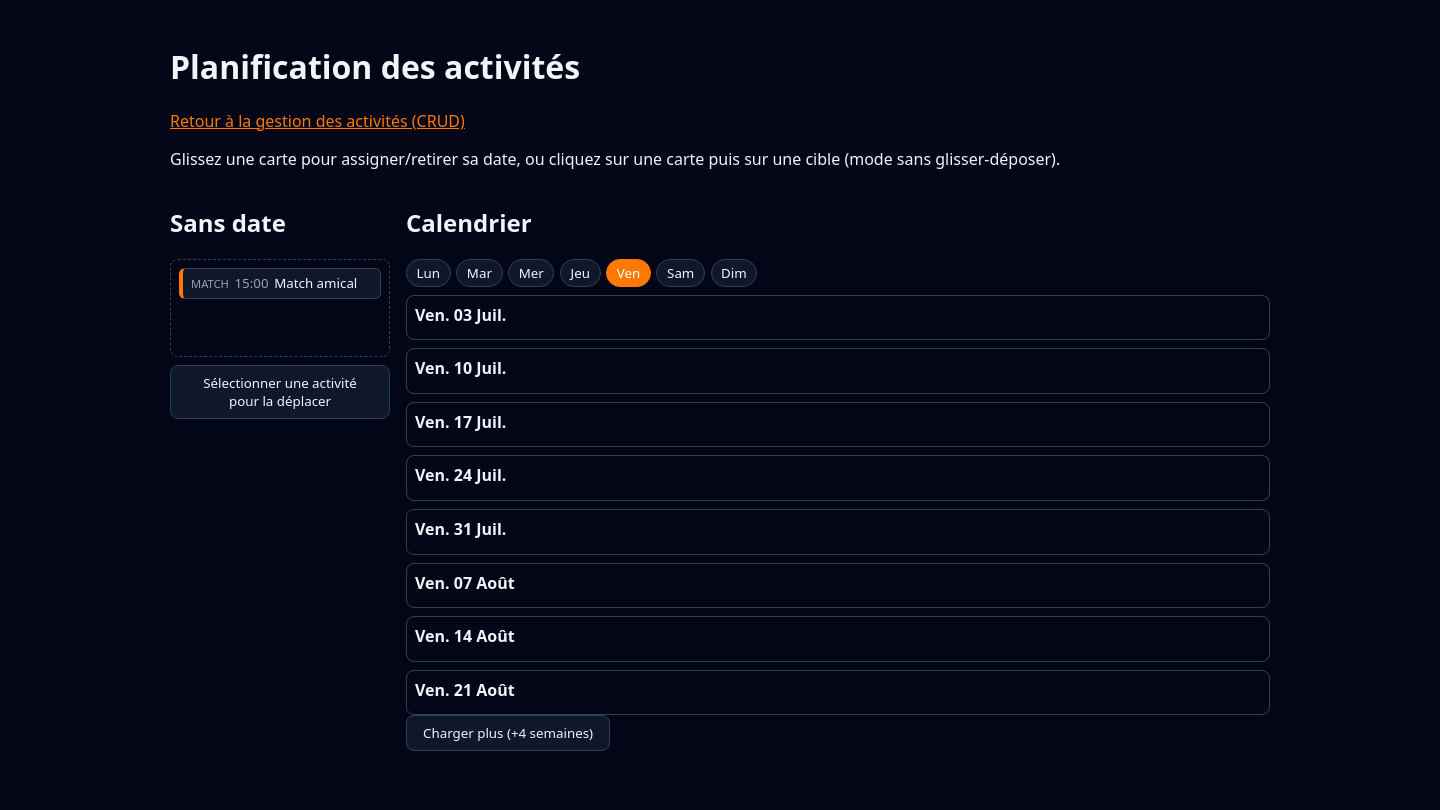
it: AdminPlanificationActivitesPage › ferme la popup de détail quand on clique sur "Fermer"
Click the button "Match 15:00 Match amical": (280, 283) [179, 268, 381, 299]
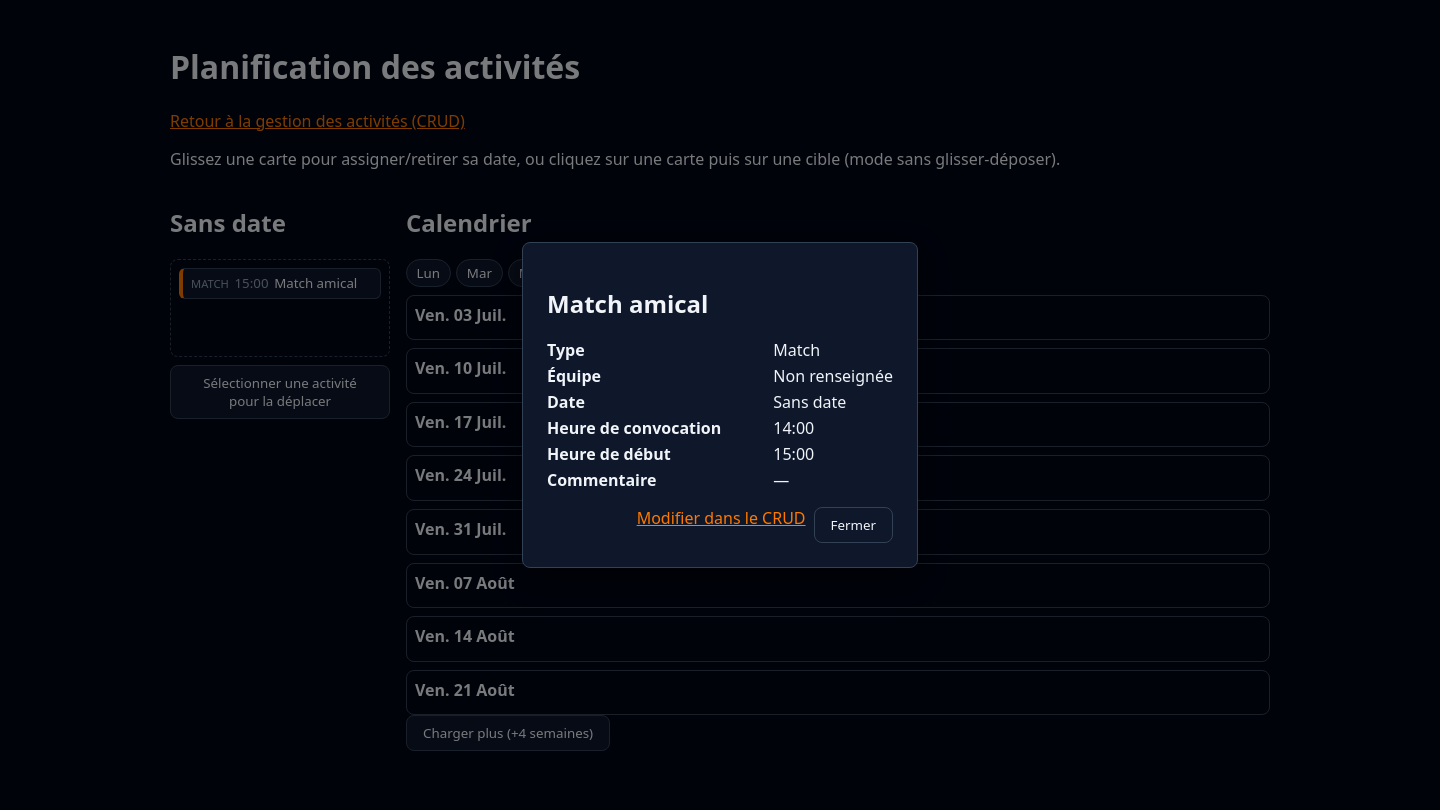
Click the button "Fermer": (853, 525) [814, 507, 893, 543]
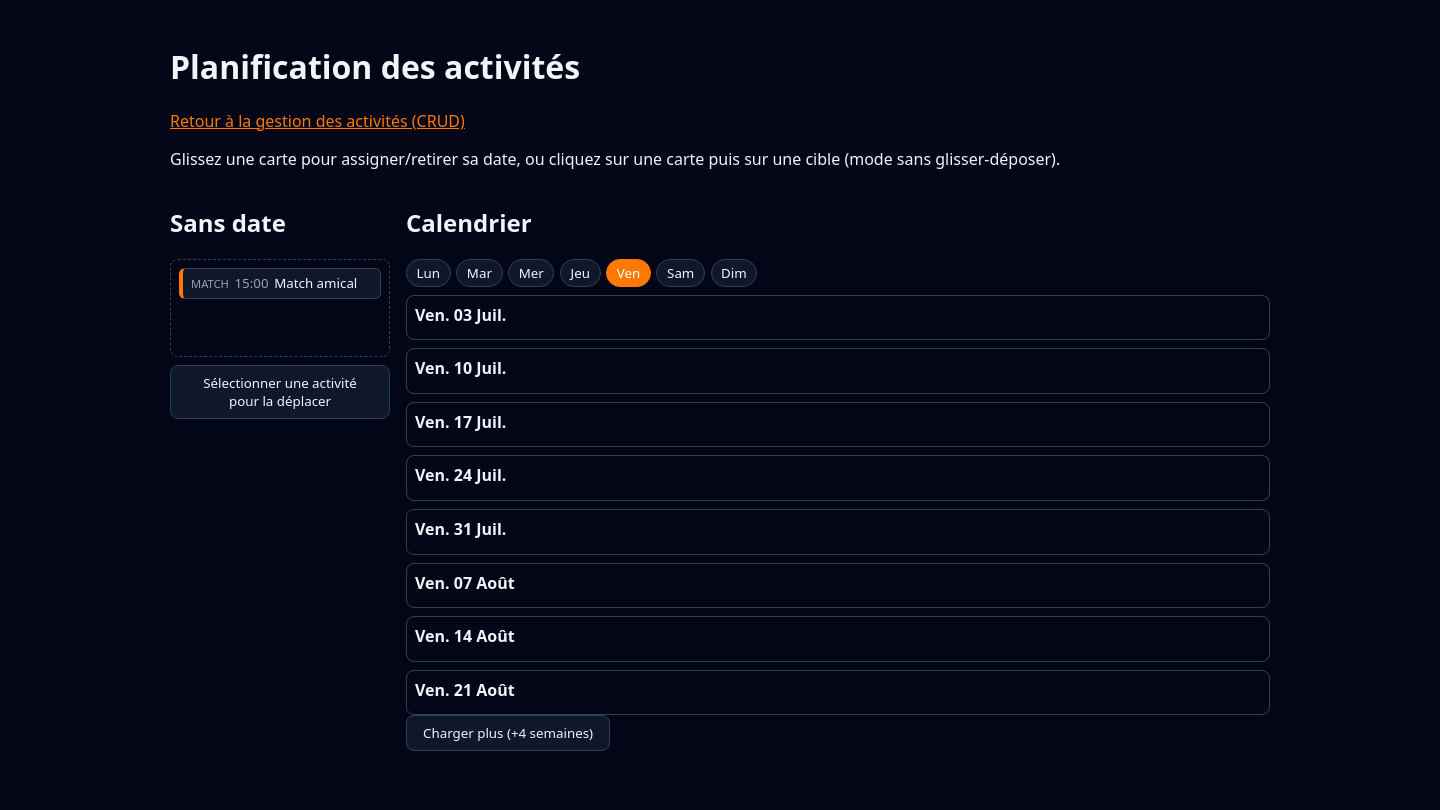
Now the dialog is gone
